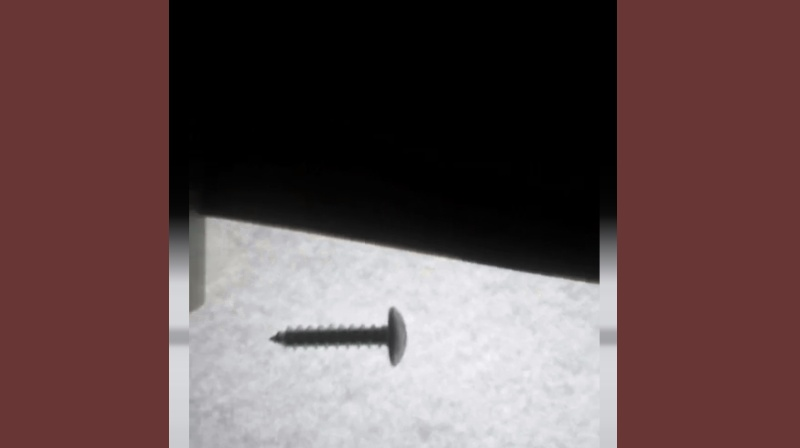S003: (268, 300, 411, 368)
